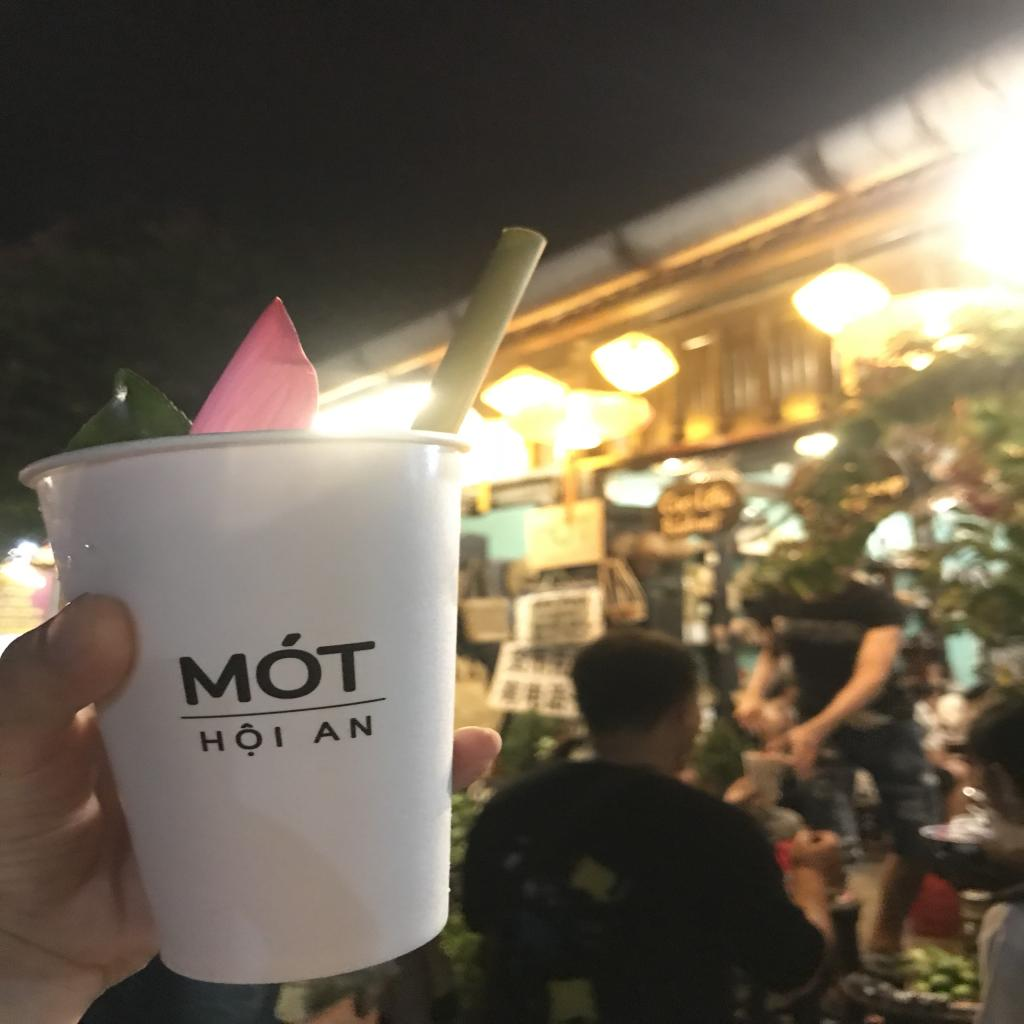text: (165, 618, 394, 714), (184, 718, 293, 762), (308, 710, 382, 750)
